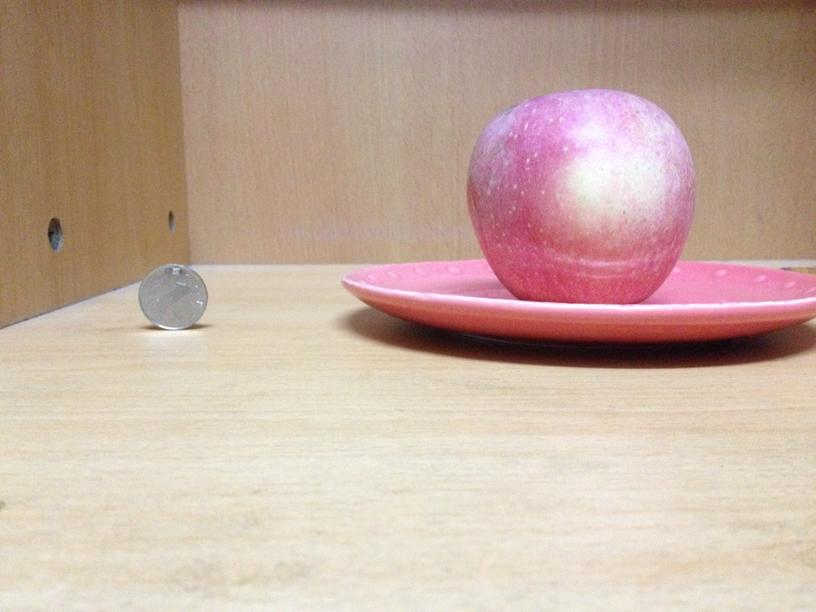apple: (461, 87, 695, 301)
coin: (137, 266, 209, 331)
